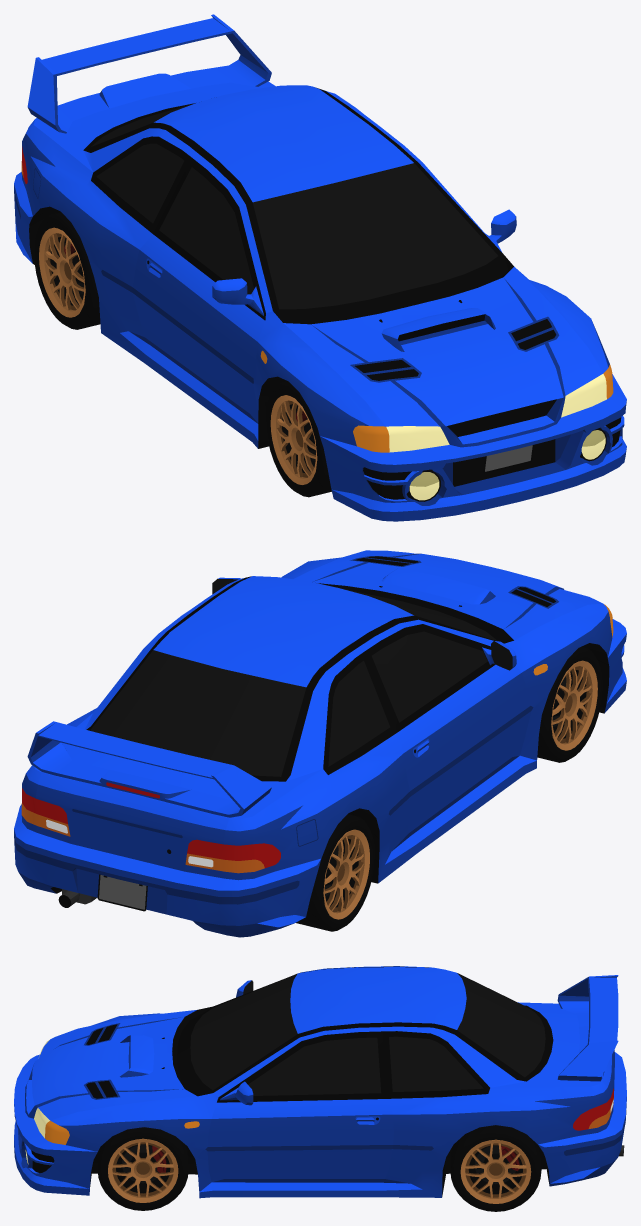
File: subaru_impreza_sti_22b_stylized_toon.glb
3 views of the same model, one above another, from view 1: azimuth 30°, elevation 25°; view 2: azimuth 150°, elevation 25°; view 3: azimuth 270°, elevation 25° (orthographic). The views are drawn at different scales.
Visible parts, largest first — view 1: Object_10, Object_13, Object_12, Object_3, Object_11, Object_6, Object_9; view 2: Object_10, Object_13, Object_12, Object_3, Object_5, Object_9; view 3: Object_10, Object_13, Object_12, Object_3, Object_8, Object_4, Object_2.
Part boxes in pixels (x1=…): Object_10: x1=14, y1=14, x2=626, y2=521; Object_13: x1=91, y1=103, x2=497, y2=309; Object_12: x1=29, y1=87, x2=621, y2=501; Object_3: x1=39, y1=227, x2=317, y2=484; Object_11: x1=386, y1=374, x2=606, y2=452; Object_6: x1=409, y1=430, x2=605, y2=500; Object_9: x1=21, y1=161, x2=389, y2=452; Object_10: x1=14, y1=550, x2=626, y2=937; Object_13: x1=90, y1=578, x2=512, y2=776; Object_12: x1=50, y1=556, x2=609, y2=931; Object_3: x1=323, y1=660, x2=597, y2=919; Object_5: x1=22, y1=782, x2=254, y2=860; Object_9: x1=185, y1=604, x2=613, y2=873; Object_10: x1=14, y1=966, x2=626, y2=1198; Object_13: x1=190, y1=973, x2=545, y2=1095; Object_12: x1=26, y1=966, x2=624, y2=1211; Object_3: x1=108, y1=1138, x2=531, y2=1203; Object_8: x1=45, y1=1098, x2=613, y2=1144; Object_4: x1=573, y1=1106, x2=599, y2=1130; Object_2: x1=152, y1=1145, x2=519, y2=1172.
Bounding box in the file's own units: 1.88 × 1.31 × 4.32.
12 materials, 12 textured.
